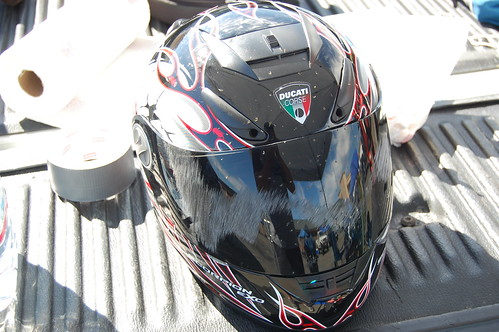helmet: (128, 0, 414, 331)
